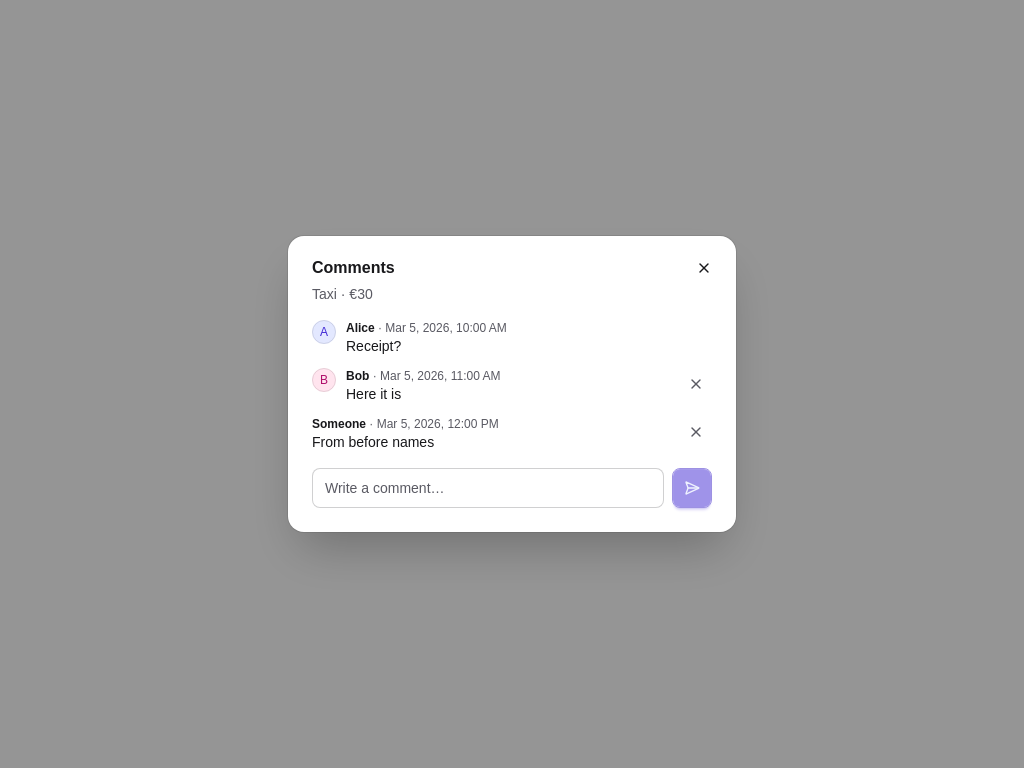
Test: CommentsDialog › says why a comment wasn't added
Type "x" into the field named "Your comment" at (488, 488), box [312,468,664,508]
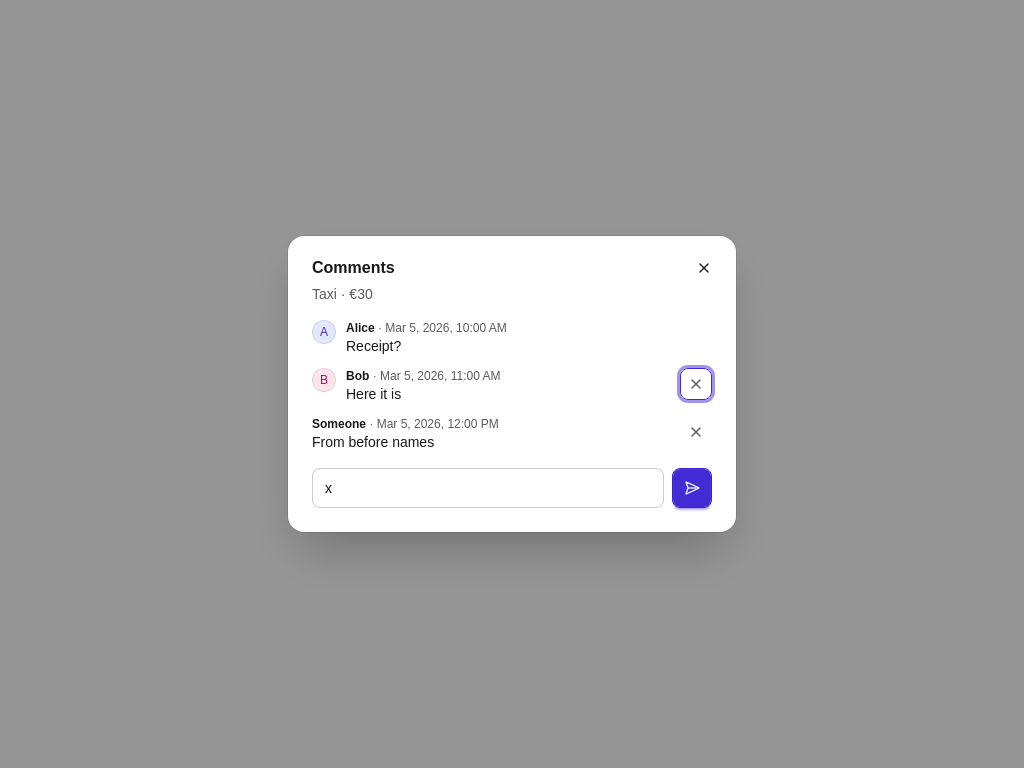
Submit the form, box [312,468,712,508]
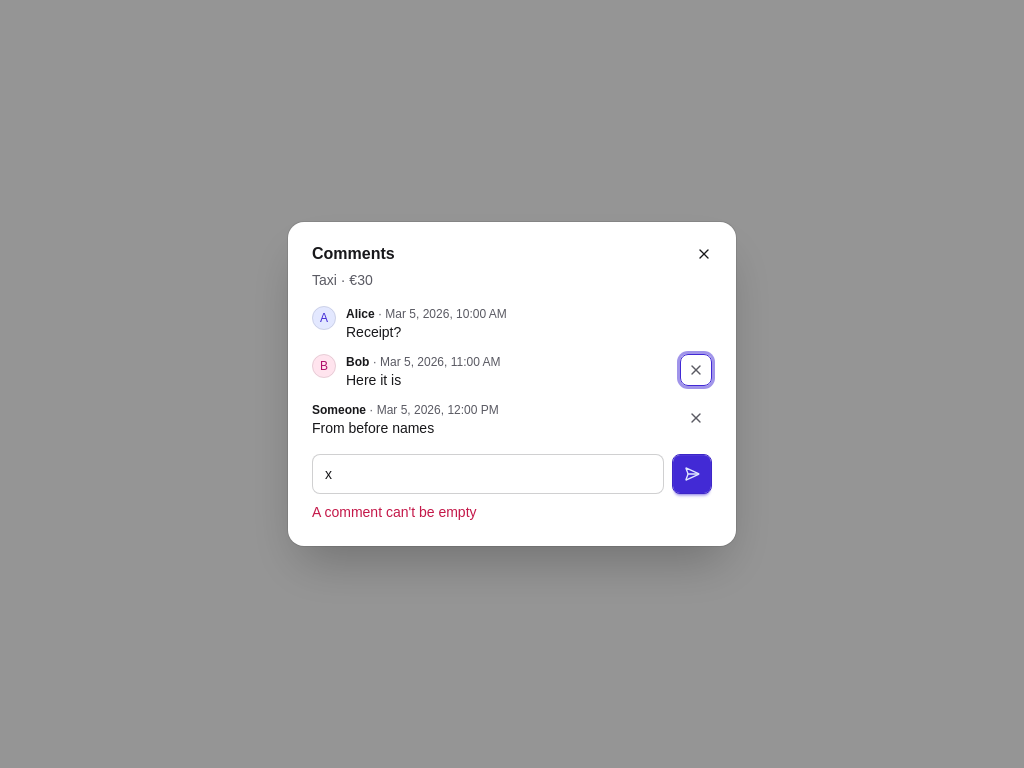
Result: the dialog shows "A comment can't be empty" at [312,504,476,520]
